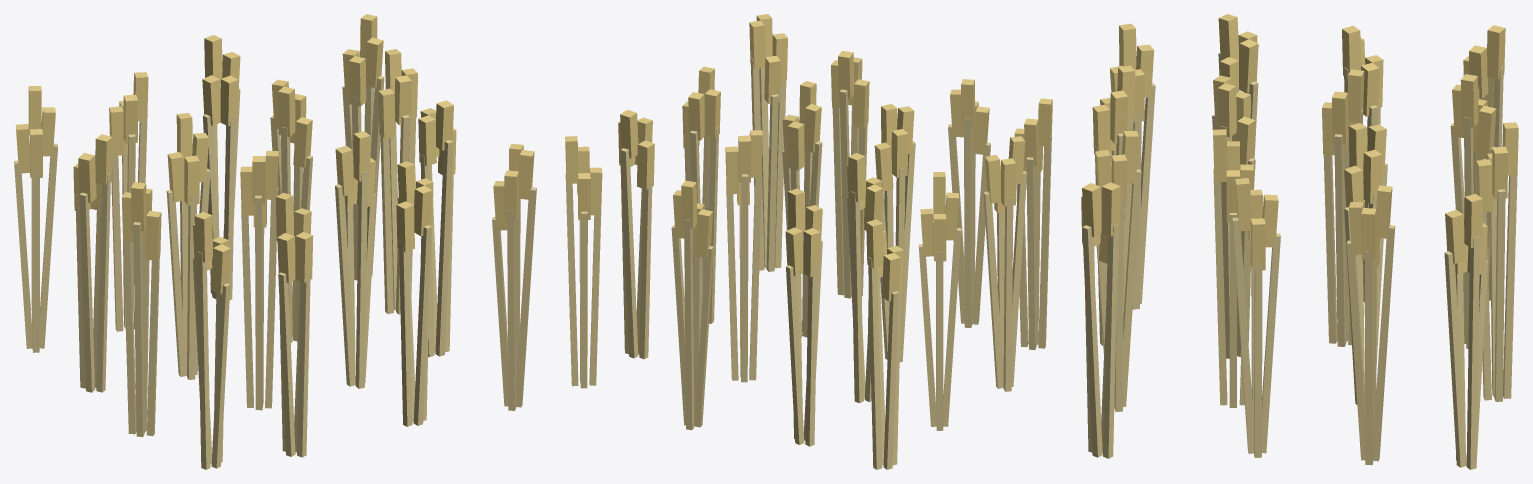
File: crop_wheat.glb
3 views of the same model, side by side, from view 1: azimuth 30°, elevation 25°; view 2: azimuth 150°, elevation 25°; view 3: azimuth 270°, elevation 25° (orthographic). The views are drawn at different scales.
Parts seen in each view (by area): view 1: straw, wheat_ear; view 2: straw, wheat_ear; view 3: straw, wheat_ear.
Boxes of the visible parts, bbox=[...] form: straw: bbox=[14, 76, 536, 469]; wheat_ear: bbox=[15, 14, 534, 294]; straw: bbox=[565, 57, 1051, 469]; wheat_ear: bbox=[565, 14, 1052, 301]; straw: bbox=[1082, 53, 1517, 469]; wheat_ear: bbox=[1081, 14, 1518, 274].
Size of the model in its own units: 0.8628 by 0.5808 by 0.8477.
